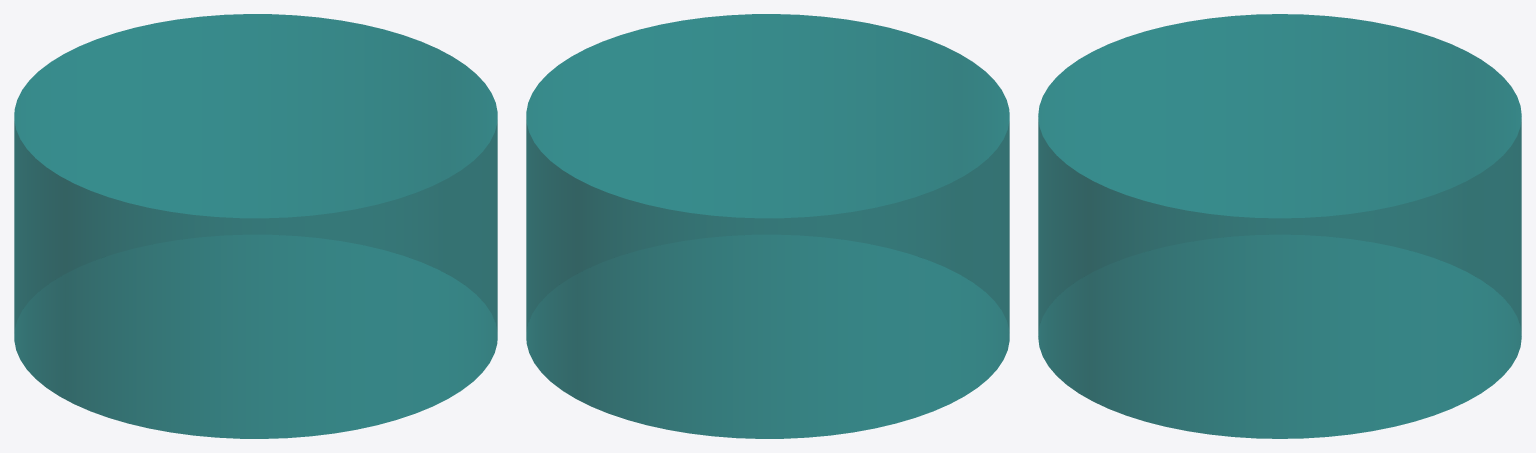
Rendered from hollowsphere.glb.
3 views of the same model, side by side, from view 1: azimuth 30°, elevation 25°; view 2: azimuth 150°, elevation 25°; view 3: azimuth 270°, elevation 25° (orthographic).
Parts seen in each view (by area): view 1: Cylinder_2; view 2: Cylinder_2; view 3: Cylinder_2.
Boxes of the visible parts, box(x1,y1,x2,y2) form: Cylinder_2: box(14, 14, 497, 438); Cylinder_2: box(526, 14, 1009, 438); Cylinder_2: box(1038, 14, 1521, 438).
Size of the model in its own units: 1.99 by 1 by 1.99.
